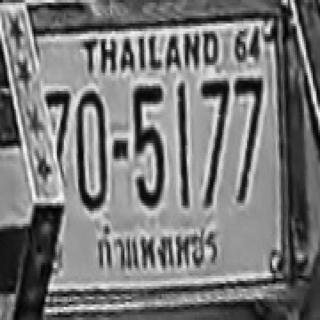N00: (77, 88, 106, 208)
N01: (177, 82, 188, 207)
N05: (132, 83, 164, 206)
N07: (200, 78, 228, 206), (233, 77, 261, 202)
P16: (89, 215, 225, 276)
